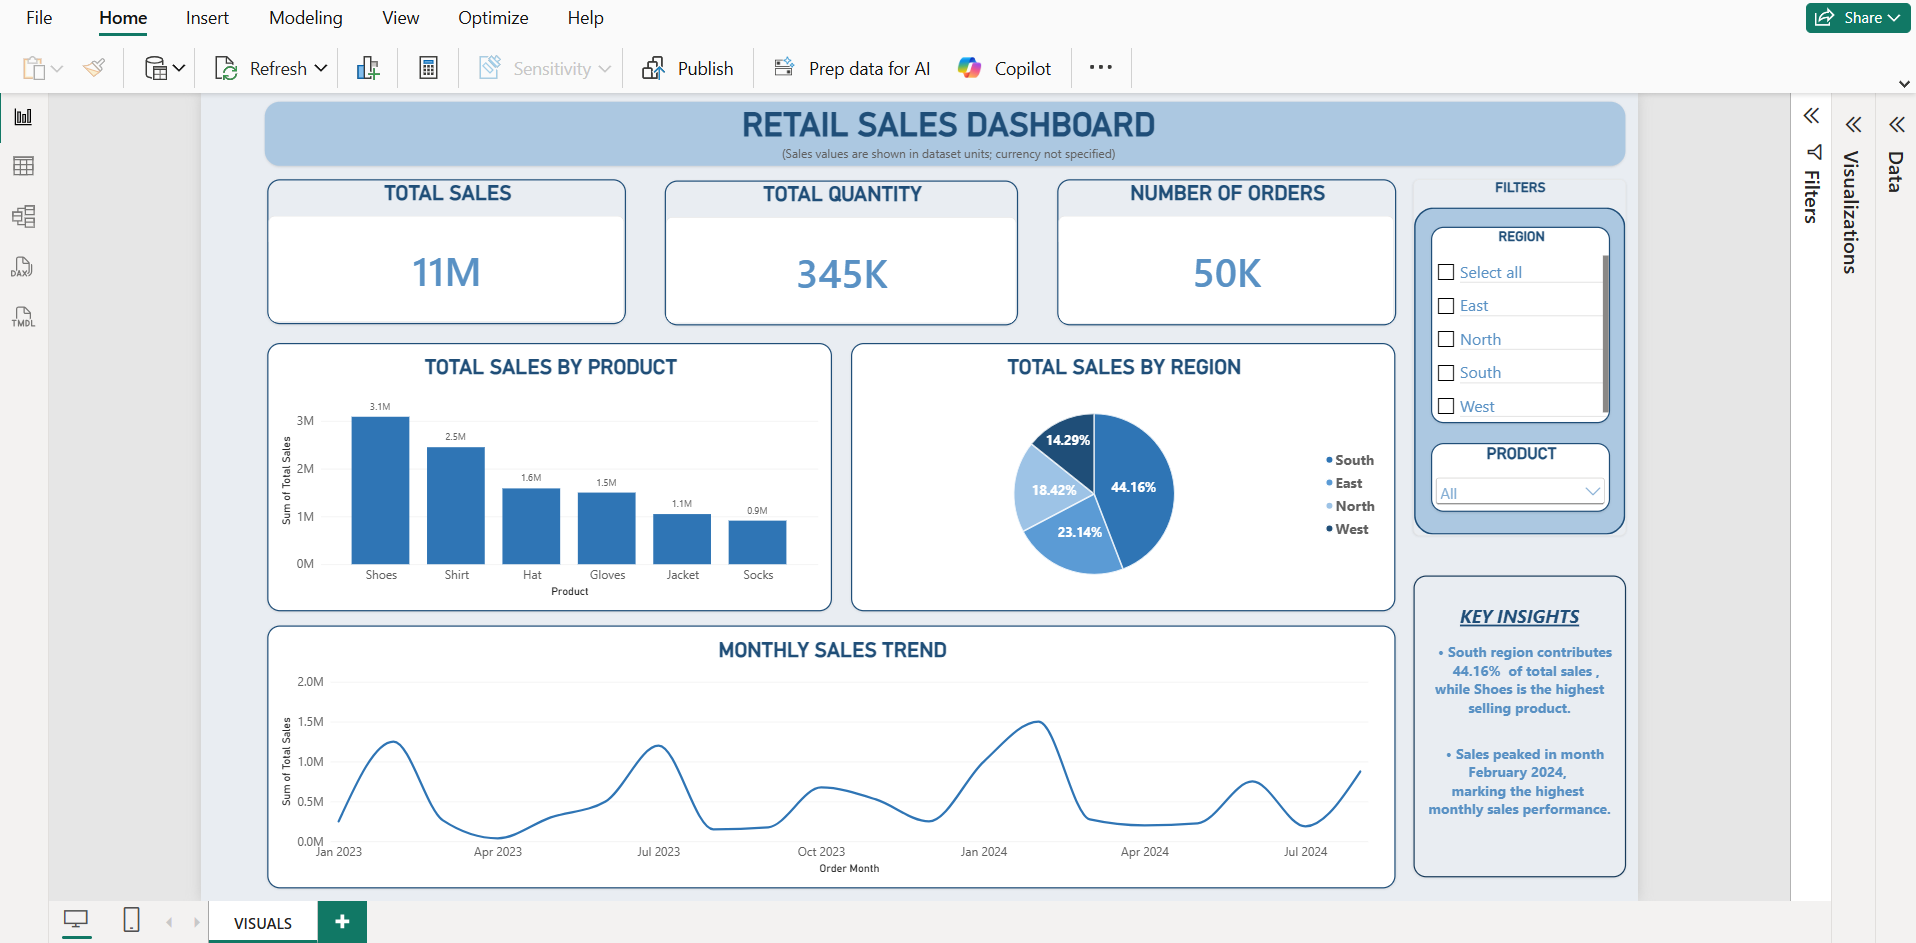

What the dashboard file says about the page in this screenshot:
{"tool":"powerbi","page":{"name":"VISUALS","canvas":[1920,1080],"ordinal":0},"visuals":[{"type":"shape","title":"FILTERS","box":[1619.6,115.8,284.1,475.9],"z":0},{"type":"cardVisual","title":"TOTAL SALES","fields":{"Data":["Sum(retails sales cleaned.Total Sales)"]},"box":[88.7,115.8,479.6,193.6],"z":1000},{"type":"cardVisual","title":"TOTAL QUANTITY","fields":{"Data":["Sum(retails sales cleaned.Quantity)"]},"box":[618.9,117.6,472.3,193.6],"z":2000},{"type":"cardVisual","title":"NUMBER OF ORDERS","fields":{"Data":["CountNonNull(retails sales cleaned.OrderID)"]},"box":[1143.7,115.8,452.4,195.4],"z":3000},{"type":"clusteredColumnChart","title":"TOTAL SALES BY PRODUCT","fields":{"Category":["retails sales cleaned.Product"],"Y":["Sum(retails sales cleaned.Total Sales)"]},"box":[88.7,334.8,754.6,358.3],"z":4000},{"type":"pieChart","title":"TOTAL SALES BY REGION","fields":{"Category":["retails sales cleaned.Region"],"Y":["Sum(retails sales cleaned.Total Sales)"]},"box":[868.6,334.8,727.5,358.3],"z":5000},{"type":"lineChart","title":"MONTHLY SALES TREND","fields":{"Category":["retails sales cleaned.Order Month"],"Y":["Sum(retails sales cleaned.Total Sales)"]},"box":[88.7,711.2,1507.4,351.1],"z":6000},{"type":"textbox","title":"RETAIL SALES DASHBOARD","box":[85.1,18.1,1818.7,79.6],"z":7000},{"type":"slicer","title":"REGION","fields":{"Values":["retails sales cleaned.Region"]},"box":[1643.2,179.2,238.9,262.4],"z":8000},{"type":"slicer","title":"PRODUCT","fields":{"Values":["retails sales cleaned.Product"]},"box":[1643.2,466.9,238.9,92.3],"z":9000},{"type":"textbox","box":[1619.6,644.2,284.1,403.6],"z":9001}]}

Visuals, with their boxes on the page's 1920x1080 design canvas (x1, y1, x2, y2). These are canvas units, not pixel positions in the 1916x943 screenshot, which may show the page scaled, cropped or inside an application window:
"FILTERS" shape: x1=1620, y1=116, x2=1904, y2=592
"TOTAL SALES" cardVisual: x1=89, y1=116, x2=568, y2=309
"TOTAL QUANTITY" cardVisual: x1=619, y1=118, x2=1091, y2=311
"NUMBER OF ORDERS" cardVisual: x1=1144, y1=116, x2=1596, y2=311
"TOTAL SALES BY PRODUCT" clusteredColumnChart: x1=89, y1=335, x2=843, y2=693
"TOTAL SALES BY REGION" pieChart: x1=869, y1=335, x2=1596, y2=693
"MONTHLY SALES TREND" lineChart: x1=89, y1=711, x2=1596, y2=1062
"RETAIL SALES DASHBOARD" textbox: x1=85, y1=18, x2=1904, y2=98
"REGION" slicer: x1=1643, y1=179, x2=1882, y2=442
"PRODUCT" slicer: x1=1643, y1=467, x2=1882, y2=559
textbox: x1=1620, y1=644, x2=1904, y2=1048
